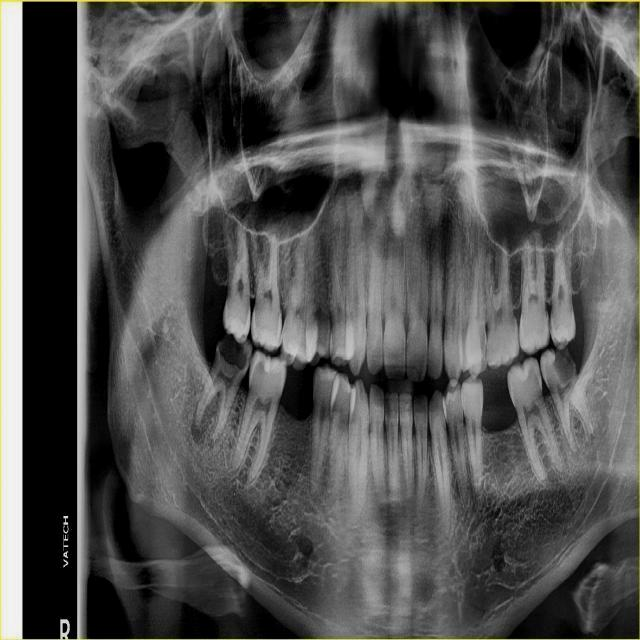Caries: (217, 336, 248, 369), (553, 347, 576, 384)
Missing teeth: (483, 379, 507, 397), (293, 371, 311, 386)
Periapical lesion: (189, 394, 220, 442)
